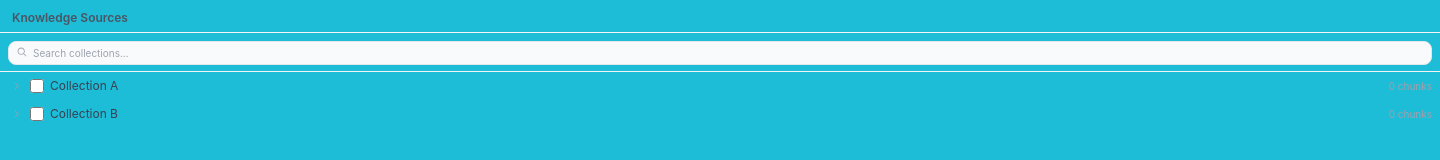
Test: KnowledgeSourcePicker › finds documents from collections that have not been expanded
The width and height of the screenshot is (1440, 160).
Type "remote" into the field with placeholder "Search collections..." at (720, 53), box [8, 41, 1432, 65]
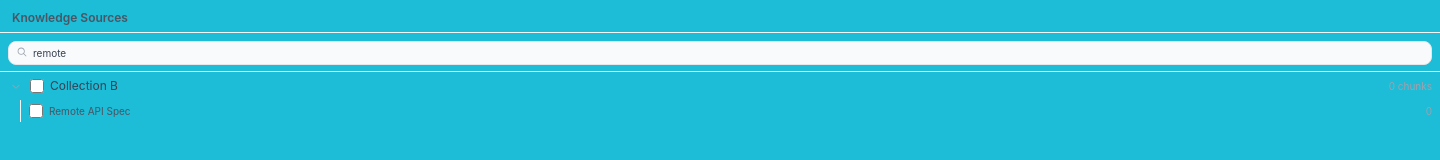
Result: the text "Remote API Spec" is shown at [49, 105, 131, 117]
